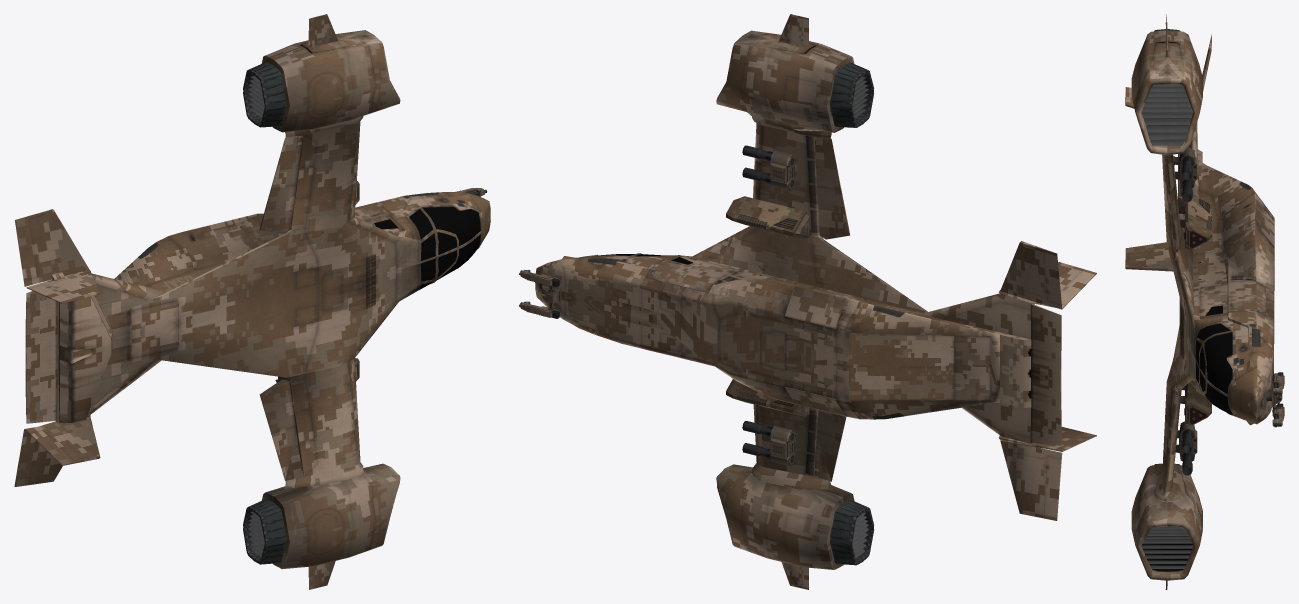
The model's file is veh_t6_air_v78_vtol_killstreak_LOD1.obj.
3 views of the same model, side by side, from view 1: azimuth 30°, elevation 25°; view 2: azimuth 150°, elevation 25°; view 3: azimuth 270°, elevation 25° (orthographic).
Parts seen in each view (by area): view 1: mtl_veh_t6_v78_vtol_friend, mtl_veh_t6_air_fa38_glass_opaque, mtl_veh_t6_v78_vtol_interior; view 2: mtl_veh_t6_v78_vtol_friend, mtl_veh_t6_v78_vtol_guns_friend, mtl_veh_t6_v78_vtol_interior; view 3: mtl_veh_t6_v78_vtol_friend, mtl_veh_t6_v78_vtol_guns_friend, mtl_veh_t6_v78_vtol_interior, mtl_veh_t6_air_fa38_glass_opaque.
Part boxes in pixels (<box>): mtl_veh_t6_v78_vtol_friend: <box>14,14,490,589</box>; mtl_veh_t6_air_fa38_glass_opaque: <box>374,207,480,289</box>; mtl_veh_t6_v78_vtol_interior: <box>248,76,457,557</box>; mtl_veh_t6_v78_vtol_friend: <box>535,14,1096,589</box>; mtl_veh_t6_v78_vtol_guns_friend: <box>519,145,809,465</box>; mtl_veh_t6_v78_vtol_interior: <box>645,76,869,558</box>; mtl_veh_t6_v78_vtol_friend: <box>1125,14,1274,589</box>; mtl_veh_t6_v78_vtol_guns_friend: <box>1173,147,1284,475</box>; mtl_veh_t6_v78_vtol_interior: <box>1141,84,1265,568</box>; mtl_veh_t6_air_fa38_glass_opaque: <box>1196,305,1232,414</box>.
Bounding box in the file's own units: 1954 × 2118 × 539.
